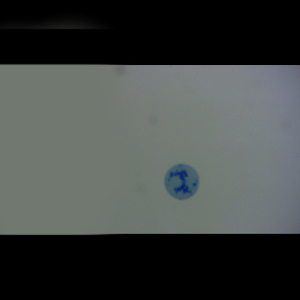aggregate reticulocyte: (163, 163, 201, 202)
